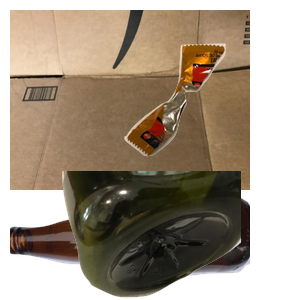cardboard: (10, 10, 250, 190)
glass: (10, 188, 250, 300)
plastic: (60, 171, 300, 300)
trash: (122, 41, 300, 190)
